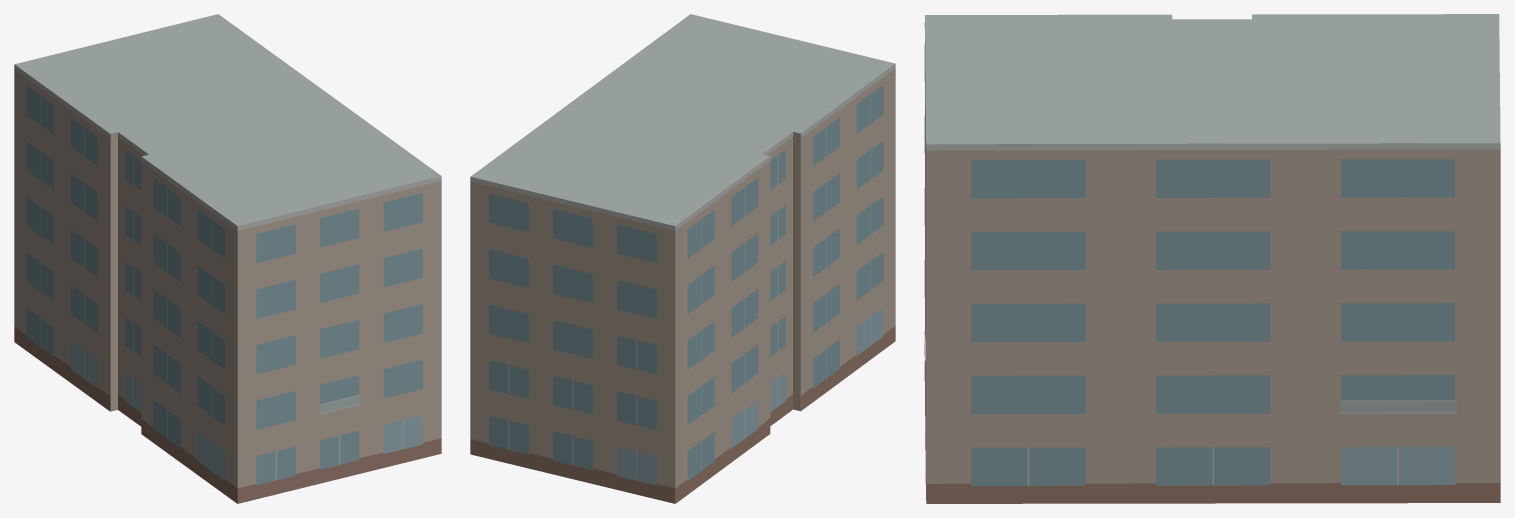
File: survey-upis-32739595.glb
3 renders of one model, left to right at view 1: azimuth 30°, elevation 25°; view 2: azimuth 150°, elevation 25°; view 3: azimuth 270°, elevation 25°, orthographic. The views are drawn at different scales.
Parts seen in each view (by area): view 1: survey-upis-32739595.tmp; view 2: survey-upis-32739595.tmp; view 3: survey-upis-32739595.tmp.
Part boxes in pixels (<box>): survey-upis-32739595.tmp: <box>14,14,441,503</box>; survey-upis-32739595.tmp: <box>470,14,895,503</box>; survey-upis-32739595.tmp: <box>924,14,1500,503</box>.
Size of the model in its own units: 10.88 by 14 by 20.34.
